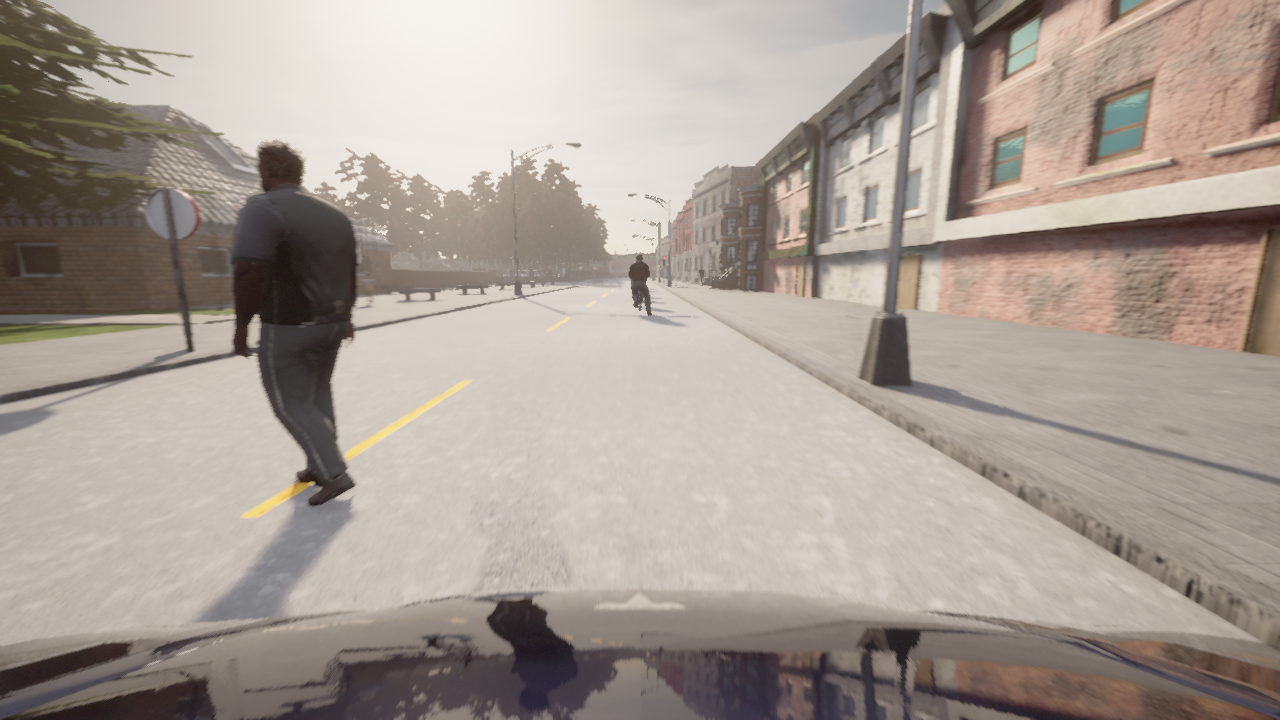cyclist: (0, 588, 1279, 719), (634, 288, 644, 316), (640, 290, 644, 300), (632, 282, 633, 283)
pedestrian: (230, 140, 360, 506), (362, 272, 376, 305), (697, 265, 705, 287), (505, 273, 509, 286)
